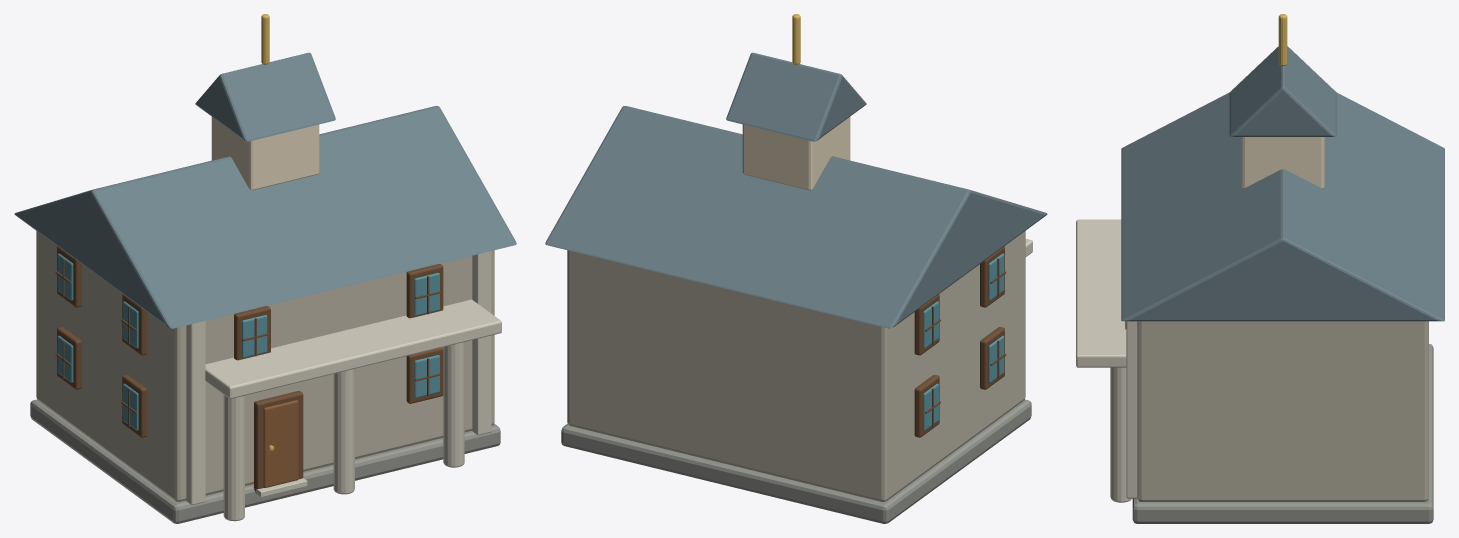
File: temperate-civic-1.glb
3 views of the same model, side by side, from view 1: azimuth 30°, elevation 25°; view 2: azimuth 150°, elevation 25°; view 3: azimuth 270°, elevation 25° (orthographic). The views are drawn at different scales.
Visible parts, largest first — view 1: Blue slate, Warm civic stone, Cut limestone, Dark beams, Foundation stone, Warm lime, Blue glass, Door oak; view 2: Warm civic stone, Blue slate, Foundation stone, Warm lime, Dark beams, Blue glass; view 3: Blue slate, Warm civic stone, Cut limestone, Foundation stone, Warm lime, Warm brass.
Boxes of the visible parts, box(x1,y1,x2,y2) form: Blue slate: box(14, 52, 516, 328); Warm civic stone: box(36, 231, 494, 501); Cut limestone: box(185, 251, 501, 521); Dark beams: box(55, 246, 443, 491); Foundation stone: box(30, 399, 500, 523); Warm lime: box(211, 117, 319, 190); Blue glass: box(57, 253, 439, 430); Door oak: box(263, 400, 298, 487); Warm civic stone: box(567, 231, 1025, 501); Blue slate: box(545, 52, 1047, 328); Foundation stone: box(561, 399, 1031, 523); Warm lime: box(742, 117, 850, 190); Dark beams: box(914, 246, 1006, 437); Blue glass: box(923, 253, 1004, 430); Blue slate: box(1121, 46, 1444, 321); Warm civic stone: box(1137, 321, 1428, 501); Cut limestone: box(1076, 219, 1137, 502); Foundation stone: box(1132, 344, 1433, 523); Warm lime: box(1241, 137, 1324, 188); Warm brass: box(1278, 14, 1287, 65).
Size of the model in its own units: 5.24 by 6 by 4.68.
